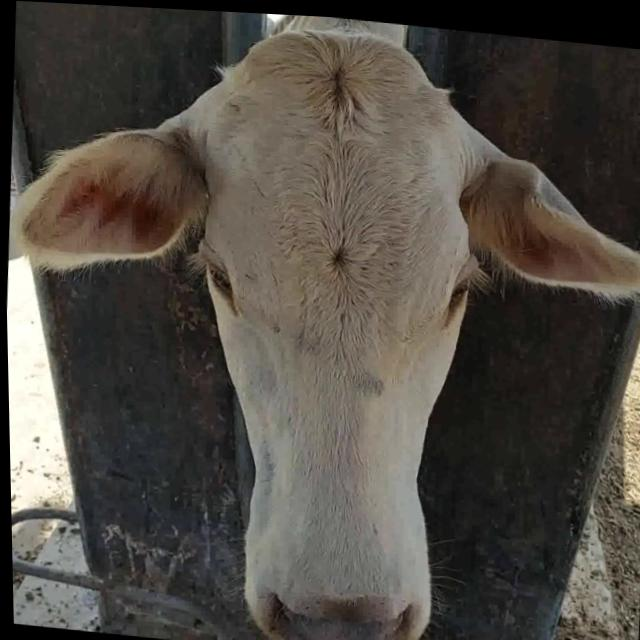cowFace: (173, 18, 490, 640)
